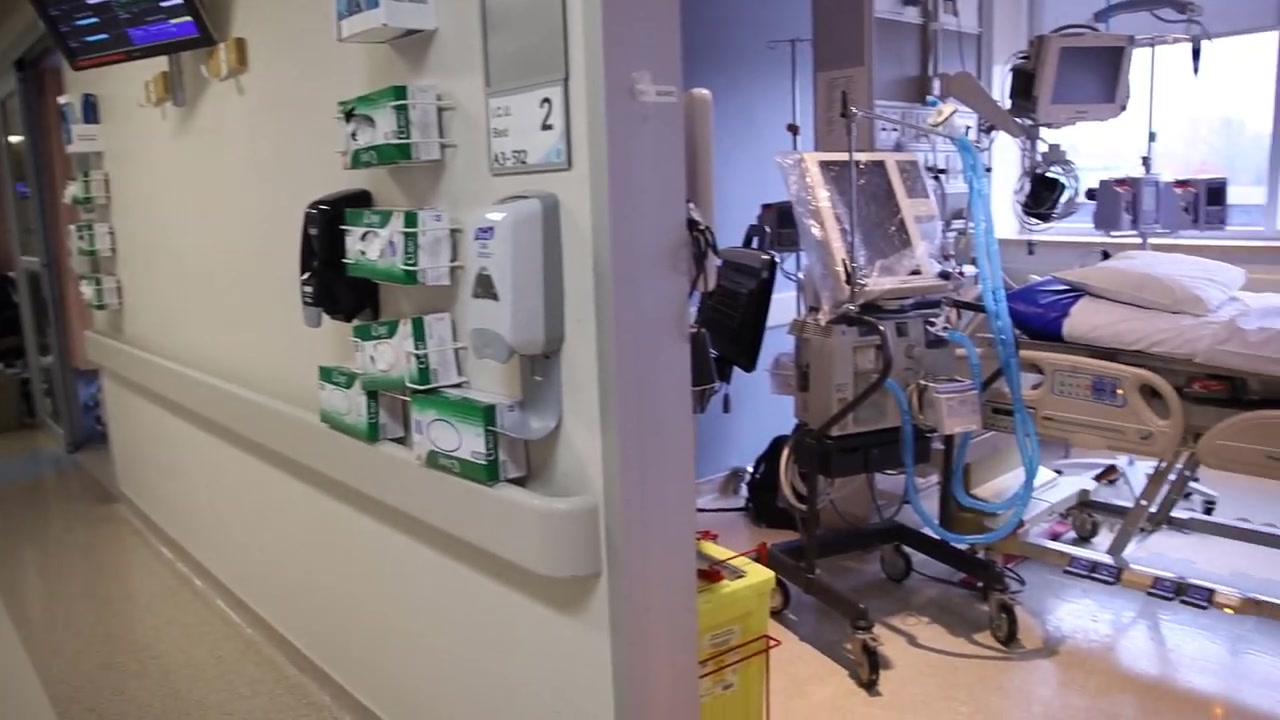TV: (33, 1, 213, 70)
bedrail: (955, 349, 1182, 460), (1195, 407, 1280, 485)
bedside_monitor: (1036, 35, 1128, 122)
breathing_tube: (873, 95, 1048, 546)
dispenser: (467, 190, 569, 445), (414, 389, 526, 484), (299, 189, 374, 327), (345, 204, 449, 288), (337, 87, 441, 171), (354, 309, 454, 387), (315, 363, 405, 444), (72, 274, 120, 312), (68, 222, 113, 258), (65, 171, 108, 204)
hallway_assist_bar: (80, 328, 603, 580)
hospital_bed: (940, 250, 1280, 622)
infusion_pump: (1163, 175, 1230, 235), (1096, 175, 1161, 235), (761, 203, 799, 251)
iv_pole: (764, 36, 815, 314), (1134, 31, 1192, 175)
ventilator: (789, 152, 958, 477)
